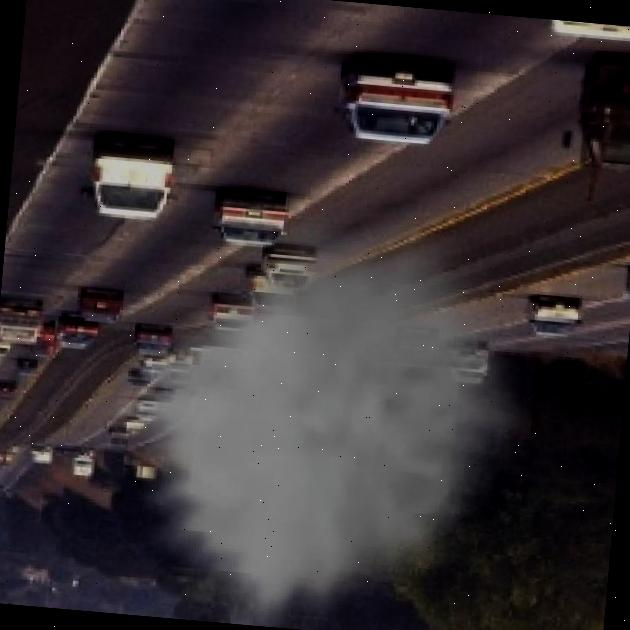smoke: (98, 208, 547, 630)
